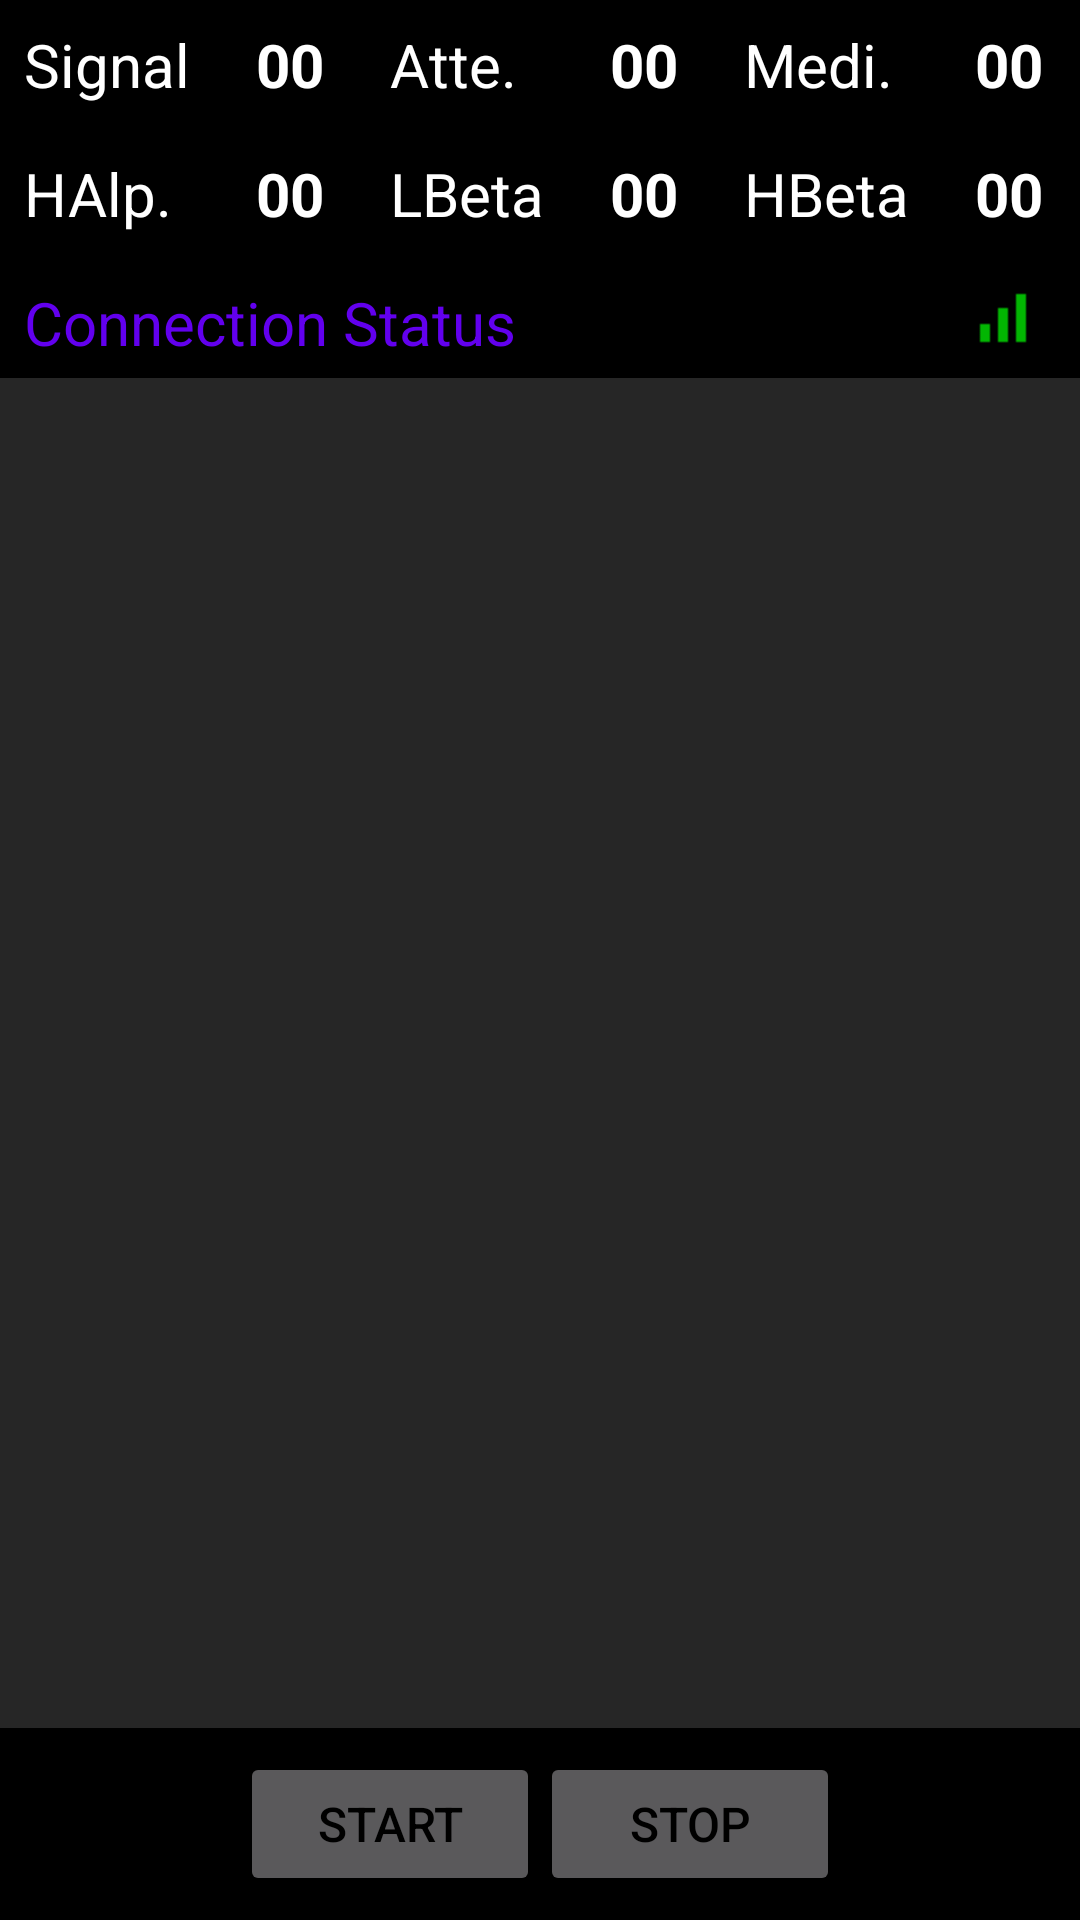

Icon click points for this 1080w x 1920h phone screenshot, format (x=x, y=y):
signal full: (x=1003, y=318)
